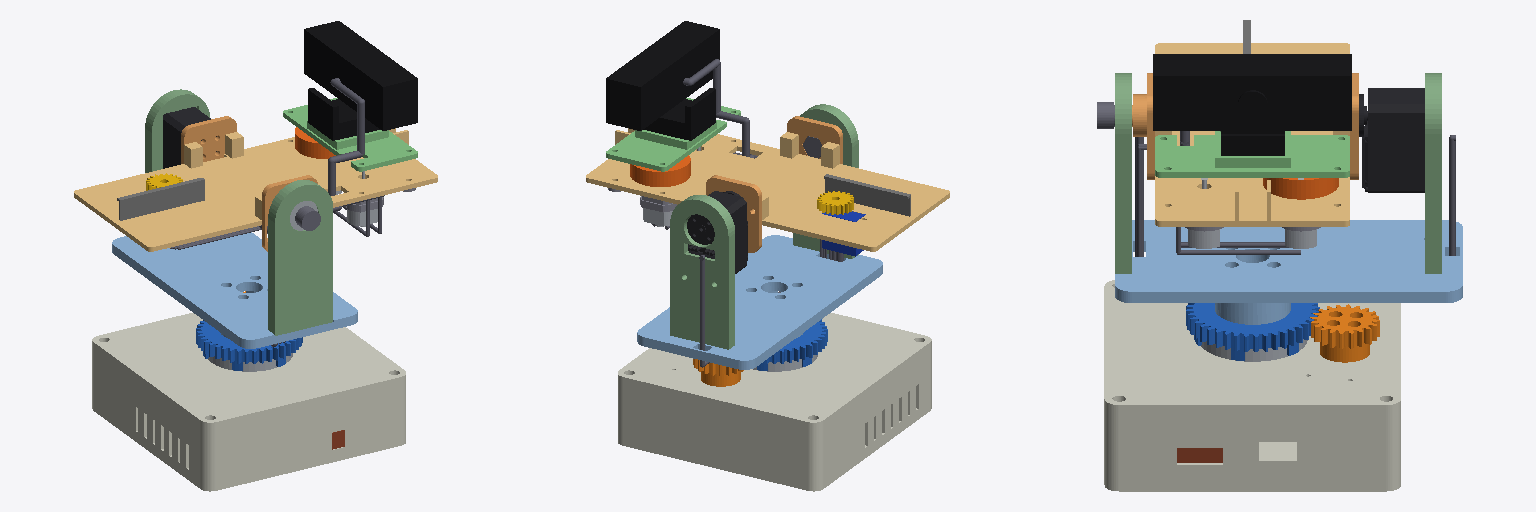
robot.urdf — torreta:
<?xml version="1.0"?>
<!-- GERADO por cad/gerar_urdf.py: SÓ PARA O VÍDEO. Física igual à do torreta.urdf; sem os visuais da gaiola, do funil e dos dardos do funil, e com uma marca branca em cada volante. -->
<robot name="torreta">
  <material name="cor_12_12_13"><color rgba="0.12 0.12 0.13 1" /></material>
  <material name="cor_15_30_75"><color rgba="0.15 0.3 0.75 1" /></material>
  <material name="cor_15_55_95"><color rgba="0.15 0.55 0.95 1" /></material>
  <material name="cor_20_20_22"><color rgba="0.2 0.2 0.22 1" /></material>
  <material name="cor_20_45_80"><color rgba="0.2 0.45 0.8 1" /></material>
  <material name="cor_40_40_45"><color rgba="0.4 0.4 0.45 1" /></material>
  <material name="cor_45_45_50"><color rgba="0.45 0.45 0.5 1" /></material>
  <material name="cor_45_65_85"><color rgba="0.45 0.65 0.85 1" /></material>
  <material name="cor_50_50_50"><color rgba="0.5 0.5 0.5 1" /></material>
  <material name="cor_55_55_60"><color rgba="0.55 0.55 0.6 1" /></material>
  <material name="cor_55_70_55"><color rgba="0.55 0.7 0.55 1" /></material>
  <material name="cor_55_80_55"><color rgba="0.55 0.8 0.55 1" /></material>
  <material name="cor_60_30_20"><color rgba="0.6 0.3 0.2 1" /></material>
  <material name="cor_60_75_90"><color rgba="0.6 0.75 0.9 1" /></material>
  <material name="cor_70_72_75"><color rgba="0.7 0.72 0.75 1" /></material>
  <material name="cor_80_80_55"><color rgba="0.8 0.8 0.55 1" /></material>
  <material name="cor_85_25_25"><color rgba="0.85 0.25 0.25 1" /></material>
  <material name="cor_85_85_80"><color rgba="0.85 0.85 0.8 1" /></material>
  <material name="cor_90_65_40"><color rgba="0.9 0.65 0.4 1" /></material>
  <material name="cor_95_45_15"><color rgba="0.95 0.45 0.15 1" /></material>
  <material name="cor_95_55_15"><color rgba="0.95 0.55 0.15 1" /></material>
  <material name="cor_95_75_10"><color rgba="0.95 0.75 0.1 1" /></material>
  <material name="cor_95_80_55"><color rgba="0.95 0.8 0.55 1" /></material>

  
  <link name="world" />
  <joint name="world_base" type="fixed"><parent link="world" /><child link="base_link" /><origin xyz="0 0 0.0450128" rpy="0 0 0" /></joint>

  <link name="base_link">
    <visual>
      <origin xyz="0 0 0" rpy="0 0 0" />
      <geometry><mesh filename="package://torreta_description/meshes/base_link_0.stl" scale="0.001 0.001 0.001" /></geometry>
      <material name="cor_20_20_22" />
    </visual>
    <visual>
      <origin xyz="0 0 0" rpy="0 0 0" />
      <geometry><mesh filename="package://torreta_description/meshes/base_link_1.stl" scale="0.001 0.001 0.001" /></geometry>
      <material name="cor_40_40_45" />
    </visual>
    <visual>
      <origin xyz="0 0 0" rpy="0 0 0" />
      <geometry><mesh filename="package://torreta_description/meshes/base_link_2.stl" scale="0.001 0.001 0.001" /></geometry>
      <material name="cor_60_30_20" />
    </visual>
    <visual>
      <origin xyz="0 0 0" rpy="0 0 0" />
      <geometry><mesh filename="package://torreta_description/meshes/base_link_3.stl" scale="0.001 0.001 0.001" /></geometry>
      <material name="cor_70_72_75" />
    </visual>
    <visual>
      <origin xyz="0 0 0" rpy="0 0 0" />
      <geometry><mesh filename="package://torreta_description/meshes/base_link_4.stl" scale="0.001 0.001 0.001" /></geometry>
      <material name="cor_85_85_80" />
    </visual>
    <inertial>
      <origin xyz="0.00274903 0.00500803 -0.0153702" rpy="0 0 0" />
      <mass value="0.370294" />
      <inertia ixx="0.000765308" ixy="-4.05328e-05" ixz="2.07141e-06" iyy="0.000716418" iyz="6.34525e-06" izz="0.00126087" />
    </inertial>
  </link>

  <link name="pinhao_pan">
    <visual>
      <origin xyz="0 0 0" rpy="0 0 0" />
      <geometry><mesh filename="package://torreta_description/meshes/pinhao_pan_0.stl" scale="0.001 0.001 0.001" /></geometry>
      <material name="cor_95_55_15" />
    </visual>
    <inertial>
      <origin xyz="1.35105e-18 2.5619e-18 0.00978645" rpy="0 0 0" />
      <mass value="0.00947438" />
      <inertia ixx="7.30724e-07" ixy="3.75762e-22" ixz="3.80726e-23" iyy="7.30724e-07" iyz="1.90239e-22" izz="1.00247e-06" />
    </inertial>
  </link>

  <link name="pan_link">
    <visual>
      <origin xyz="0 0 0" rpy="0 0 0" />
      <geometry><mesh filename="package://torreta_description/meshes/pan_link_0.stl" scale="0.001 0.001 0.001" /></geometry>
      <material name="cor_20_20_22" />
    </visual>
    <visual>
      <origin xyz="0 0 0" rpy="0 0 0" />
      <geometry><mesh filename="package://torreta_description/meshes/pan_link_1.stl" scale="0.001 0.001 0.001" /></geometry>
      <material name="cor_20_45_80" />
    </visual>
    <visual>
      <origin xyz="0 0 0" rpy="0 0 0" />
      <geometry><mesh filename="package://torreta_description/meshes/pan_link_2.stl" scale="0.001 0.001 0.001" /></geometry>
      <material name="cor_40_40_45" />
    </visual>
    <visual>
      <origin xyz="0 0 0" rpy="0 0 0" />
      <geometry><mesh filename="package://torreta_description/meshes/pan_link_3.stl" scale="0.001 0.001 0.001" /></geometry>
      <material name="cor_55_70_55" />
    </visual>
    <visual>
      <origin xyz="0 0 0" rpy="0 0 0" />
      <geometry><mesh filename="package://torreta_description/meshes/pan_link_4.stl" scale="0.001 0.001 0.001" /></geometry>
      <material name="cor_60_75_90" />
    </visual>
    <visual>
      <origin xyz="0 0 0" rpy="0 0 0" />
      <geometry><mesh filename="package://torreta_description/meshes/pan_link_5.stl" scale="0.001 0.001 0.001" /></geometry>
      <material name="cor_70_72_75" />
    </visual>
    <inertial>
      <origin xyz="3.51657e-05 0.0192638 0.065288" rpy="0 0 0" />
      <mass value="0.259808" />
      <inertia ixx="0.00110694" ixy="2.65069e-07" ixz="2.12766e-07" iyy="0.000407362" iyz="-7.39599e-05" izz="0.000841564" />
    </inertial>
  </link>

  <link name="berco">
    <visual>
      <origin xyz="0 0 0" rpy="0 0 0" />
      <geometry><mesh filename="package://torreta_description/meshes/berco_0.stl" scale="0.001 0.001 0.001" /></geometry>
      <material name="cor_12_12_13" />
    </visual>
    <visual>
      <origin xyz="0 0 0" rpy="0 0 0" />
      <geometry><mesh filename="package://torreta_description/meshes/berco_1.stl" scale="0.001 0.001 0.001" /></geometry>
      <material name="cor_15_30_75" />
    </visual>
    <visual>
      <origin xyz="0 0 0" rpy="0 0 0" />
      <geometry><mesh filename="package://torreta_description/meshes/berco_3.stl" scale="0.001 0.001 0.001" /></geometry>
      <material name="cor_40_40_45" />
    </visual>
    <visual>
      <origin xyz="0 0 0" rpy="0 0 0" />
      <geometry><mesh filename="package://torreta_description/meshes/berco_4.stl" scale="0.001 0.001 0.001" /></geometry>
      <material name="cor_45_45_50" />
    </visual>
    <visual>
      <origin xyz="0 0 0" rpy="0 0 0" />
      <geometry><mesh filename="package://torreta_description/meshes/berco_6.stl" scale="0.001 0.001 0.001" /></geometry>
      <material name="cor_50_50_50" />
    </visual>
    <visual>
      <origin xyz="0 0 0" rpy="0 0 0" />
      <geometry><mesh filename="package://torreta_description/meshes/berco_7.stl" scale="0.001 0.001 0.001" /></geometry>
      <material name="cor_55_55_60" />
    </visual>
    <visual>
      <origin xyz="0 0 0" rpy="0 0 0" />
      <geometry><mesh filename="package://torreta_description/meshes/berco_8.stl" scale="0.001 0.001 0.001" /></geometry>
      <material name="cor_55_80_55" />
    </visual>
    <visual>
      <origin xyz="0 0 0" rpy="0 0 0" />
      <geometry><mesh filename="package://torreta_description/meshes/berco_9.stl" scale="0.001 0.001 0.001" /></geometry>
      <material name="cor_70_72_75" />
    </visual>
    <visual>
      <origin xyz="0 0 0" rpy="0 0 0" />
      <geometry><mesh filename="package://torreta_description/meshes/berco_11.stl" scale="0.001 0.001 0.001" /></geometry>
      <material name="cor_90_65_40" />
    </visual>
    <visual>
      <origin xyz="0 0 0" rpy="0 0 0" />
      <geometry><mesh filename="package://torreta_description/meshes/berco_12.stl" scale="0.001 0.001 0.001" /></geometry>
      <material name="cor_95_80_55" />
    </visual>
    <collision>
      <origin xyz="0.03625 0 -0.008" rpy="0 0 0" />
      <geometry><box size="0.1355 0.0172 0.003" /></geometry>
    </collision>
    <collision>
      <origin xyz="0.0082 0.0076 0" rpy="0 0 0" />
      <geometry><box size="0.0744 0.002 0.013" /></geometry>
    </collision>
    <collision>
      <origin xyz="0.0082 -0.0076 0" rpy="0 0 0" />
      <geometry><box size="0.0744 0.002 0.013" /></geometry>
    </collision>
    <collision>
      <origin xyz="0.0692 0 0.008" rpy="0 0 0" />
      <geometry><box size="0.0416 0.0172 0.003" /></geometry>
    </collision>
    <inertial>
      <origin xyz="0.0452454 -0.00354173 0.0184069" rpy="0 0 0" />
      <mass value="0.388121" />
      <inertia ixx="0.000638751" ixy="-5.76847e-05" ixz="-0.000249438" iyy="0.00110131" iyz="-2.26803e-05" izz="0.00113866" />
    </inertial>
  </link>

  <link name="rotor_mais_y">
    <visual><origin xyz="0.0099 0 0.0053" rpy="0 0 0" /><geometry><box size="0.0144 0.003 0.0006" /></geometry><material name="marca_branca" /></visual><visual>
      <origin xyz="0 0 0" rpy="0 0 0" />
      <geometry><mesh filename="package://torreta_description/meshes/rotor_mais_y_0.stl" scale="0.001 0.001 0.001" /></geometry>
      <material name="cor_95_45_15" />
    </visual>
    <inertial>
      <origin xyz="6.72597e-19 -2.2065e-19 -4.07168e-05" rpy="0 0 0" />
      <mass value="0.0126804" />
      <inertia ixx="1.13067e-06" ixy="6.43736e-23" ixz="1.43138e-23" iyy="1.13067e-06" iyz="-3.79324e-24" izz="2.04591e-06" />
    </inertial>
  </link>

  <link name="rotor_menos_y">
    <visual><origin xyz="0.0099 0 0.0053" rpy="0 0 0" /><geometry><box size="0.0144 0.003 0.0006" /></geometry><material name="marca_branca" /></visual><visual>
      <origin xyz="0 0 0" rpy="0 0 0" />
      <geometry><mesh filename="package://torreta_description/meshes/rotor_menos_y_0.stl" scale="0.001 0.001 0.001" /></geometry>
      <material name="cor_95_45_15" />
    </visual>
    <inertial>
      <origin xyz="6.72597e-19 -2.2065e-19 -4.07168e-05" rpy="0 0 0" />
      <mass value="0.0126804" />
      <inertia ixx="1.13067e-06" ixy="6.43736e-23" ixz="1.43138e-23" iyy="1.13067e-06" iyz="-3.79324e-24" izz="2.04591e-06" />
    </inertial>
  </link>

  <link name="pinhao_sg90">
    <visual>
      <origin xyz="0 0 0" rpy="0 0 0" />
      <geometry><mesh filename="package://torreta_description/meshes/pinhao_sg90_0.stl" scale="0.001 0.001 0.001" /></geometry>
      <material name="cor_95_75_10" />
    </visual>
    <inertial>
      <origin xyz="7.48875e-20 4.07559e-19 -0.0005" rpy="0 0 0" />
      <mass value="0.00208156" />
      <inertia ixx="6.11358e-08" ixy="-1.01121e-23" ixz="3.83082e-25" iyy="6.11358e-08" iyz="9.30592e-25" izz="1.09782e-07" />
    </inertial>
  </link>

  <link name="empurrador">
    <visual>
      <origin xyz="0 0 0" rpy="0 0 0" />
      <geometry><mesh filename="package://torreta_description/meshes/empurrador_0.stl" scale="0.001 0.001 0.001" /></geometry>
      <material name="cor_85_25_25" />
    </visual>
    <collision>
      <origin xyz="-0.06025 0.00125 -0.0005" rpy="0 0 0" />
      <geometry><box size="0.0615 0.0075 0.012" /></geometry>
    </collision>
    <inertial>
      <origin xyz="-0.0602377 0.000456248 -0.0005" rpy="0 0 0" />
      <mass value="0.00529921" />
      <inertia ixx="7.6006e-08" ixy="-2.19131e-10" ixz="3.60887e-22" iyy="1.72901e-06" iyz="2.67846e-24" izz="1.68675e-06" />
    </inertial>
  </link>

  <joint name="pan_motor" type="revolute">
    <parent link="base_link" />
    <child link="pinhao_pan" />
    <origin xyz="0.0116469 0.0434667 0" rpy="0 0 0" />
    <axis xyz="0 0 1" />
    <limit lower="-3.14159" upper="3.14159" effort="1.80893" velocity="5.15933" />
  </joint>

  <joint name="pan" type="revolute">
    <parent link="base_link" />
    <child link="pan_link" />
    <origin xyz="0 0 0" rpy="0 0 0" />
    <axis xyz="0 0 1" />
    <limit lower="-1.6057" upper="1.6057" effort="3.61786" velocity="2.57967" />
    <mimic joint="pan_motor" multiplier="-0.5" offset="0" />
  </joint>

  <joint name="tilt" type="revolute">
    <parent link="pan_link" />
    <child link="berco" />
    <origin xyz="0 0 0.118" rpy="0 0 0" />
    <axis xyz="0 -1 0" />
    <limit lower="-0.349066" upper="0.698132" effort="1.80893" velocity="5.15933" />
  </joint>

  <joint name="volante_motor" type="continuous">
    <parent link="berco" />
    <child link="rotor_mais_y" />
    <origin xyz="0.065 0.022825 0" rpy="0 0 0" />
    <axis xyz="0 0 1" />
    <limit effort="0.00353" velocity="1288.05" />
  </joint>

  <joint name="volante_espelho" type="continuous">
    <parent link="berco" />
    <child link="rotor_menos_y" />
    <origin xyz="0.065 -0.022825 0" rpy="0 0 0" />
    <axis xyz="0 0 1" />
    <limit effort="0.00353" velocity="1288.05" />
    <mimic joint="volante_motor" multiplier="-1" offset="0" />
  </joint>

  <joint name="sg90" type="revolute">
    <parent link="berco" />
    <child link="pinhao_sg90" />
    <origin xyz="-0.05 0.014 0" rpy="0 0 0" />
    <axis xyz="0 0 1" />
    <limit lower="0" upper="1.55" effort="0.17652" velocity="8.72665" />
  </joint>

  <joint name="cremalheira" type="prismatic">
    <parent link="berco" />
    <child link="empurrador" />
    <origin xyz="0 0 0" rpy="0 0 0" />
    <axis xyz="1 0 0" />
    <limit lower="-0.001" upper="0.0165" effort="17.652" velocity="0.0872665" />
    <mimic joint="sg90" multiplier="0.01" offset="0" />
  </joint>
<material name="marca_branca"><color rgba="1 1 1 1" /></material></robot>

--- What the picture shows (computed from the rendered views, not written in the file) ---
Views: 3 orthographic renders of the robot side by side, from view 1: azimuth 30°, elevation 25°; view 2: azimuth 150°, elevation 25°; view 3: azimuth 270°, elevation 25°.
Robot: torreta — 9 links, 8 joints (4 revolute, 2 continuous, 1 prismatic, 1 fixed); root link world; default pose: every joint at zero.
Visible links, largest first — view 1: base_link, berco, pan_link, rotor_mais_y; view 2: base_link, berco, pan_link, rotor_mais_y, pinhao_pan, pinhao_sg90; view 3: base_link, pan_link, berco, pinhao_pan, rotor_mais_y.
Link boxes in pixels (bbox=[...]): base_link: bbox=[92, 313, 405, 491]; berco: bbox=[74, 21, 437, 251]; pan_link: bbox=[112, 89, 357, 370]; rotor_mais_y: bbox=[295, 127, 335, 158]; base_link: bbox=[618, 313, 931, 491]; berco: bbox=[586, 21, 949, 256]; pan_link: bbox=[637, 104, 882, 370]; rotor_mais_y: bbox=[630, 155, 690, 186]; pinhao_pan: bbox=[693, 359, 743, 386]; pinhao_sg90: bbox=[817, 191, 853, 214]; base_link: bbox=[1104, 280, 1400, 491]; pan_link: bbox=[1115, 73, 1462, 360]; berco: bbox=[1097, 20, 1358, 254]; pinhao_pan: bbox=[1310, 304, 1379, 362]; rotor_mais_y: bbox=[1263, 178, 1338, 199].
Size in the robot's own frame: 0.199 by 0.1726 by 0.225 metres.
Meshes: 26 distinct files referenced, 23 mesh visuals loaded (23 binary STL); not drawn: 3 (reference not matched to a file when rendering).
